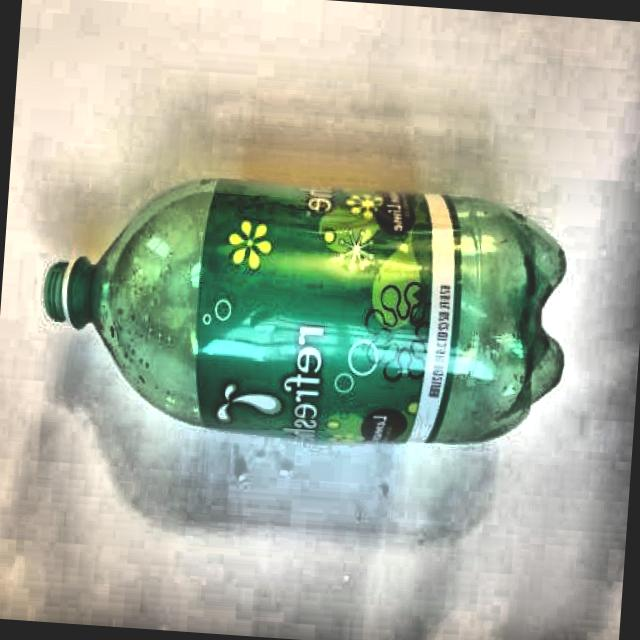plastic bottle: (44, 179, 566, 443)
